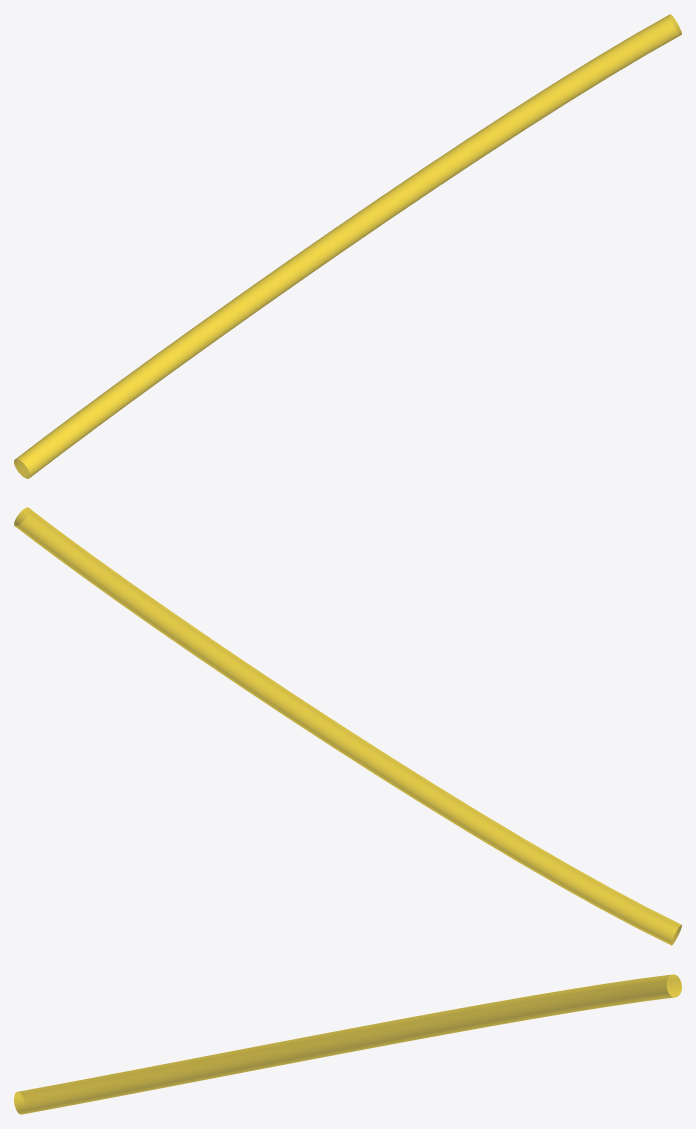
File: Event_100608114_track_121.fbx
3 views of the same model, one above another, from view 1: azimuth 30°, elevation 25°; view 2: azimuth 150°, elevation 25°; view 3: azimuth 330°, elevation 25° (orthographic). The views are drawn at different scales.
Parts seen in each view (by area): view 1: Model; view 2: Model; view 3: Model.
Boxes of the visible parts, x1=… form: Model: x1=14, y1=14, x2=681, y2=478; Model: x1=14, y1=507, x2=681, y2=945; Model: x1=14, y1=974, x2=681, y2=1114.
Bounding box in the file's own units: 1.3 × 0.5456 × 0.0971.
